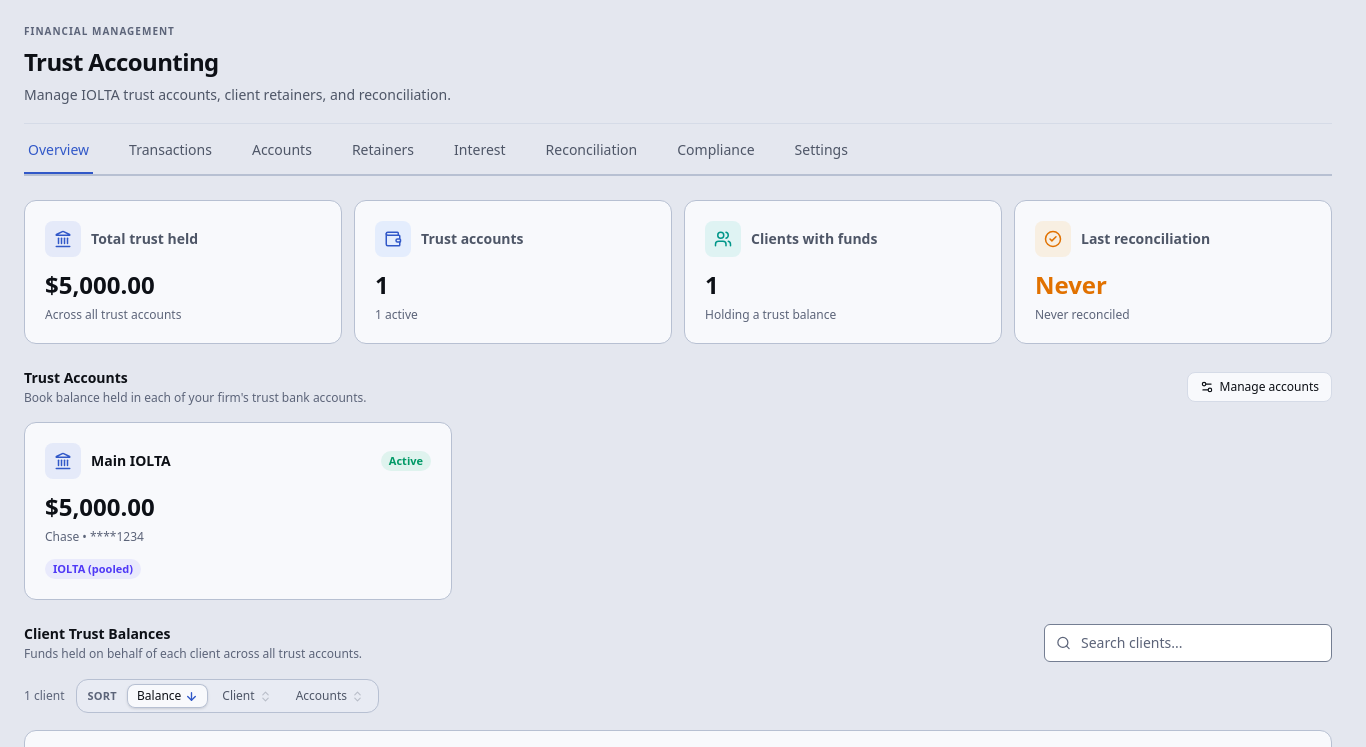
it: a successful action: opening one account's transactions › filters the ledger to that account and shows its activity
The image size is (1366, 747).
What coordinates should you click on to do the following:
click the button with aria-label "View transactions for Main IOLTA"
I would click on:
 (100, 506)
Its box is 45,491 -> 431,547.
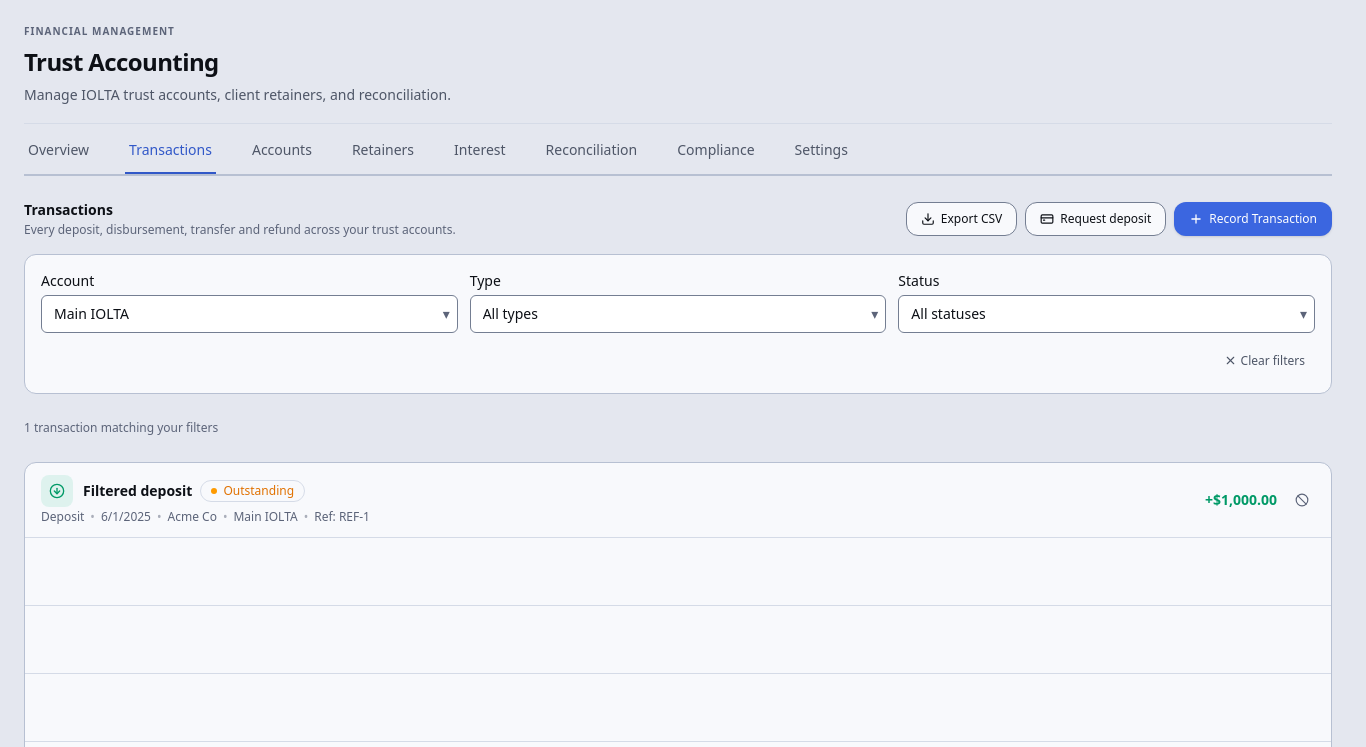
Now the text "Filtered deposit" is shown, box 83,481 -> 192,501
